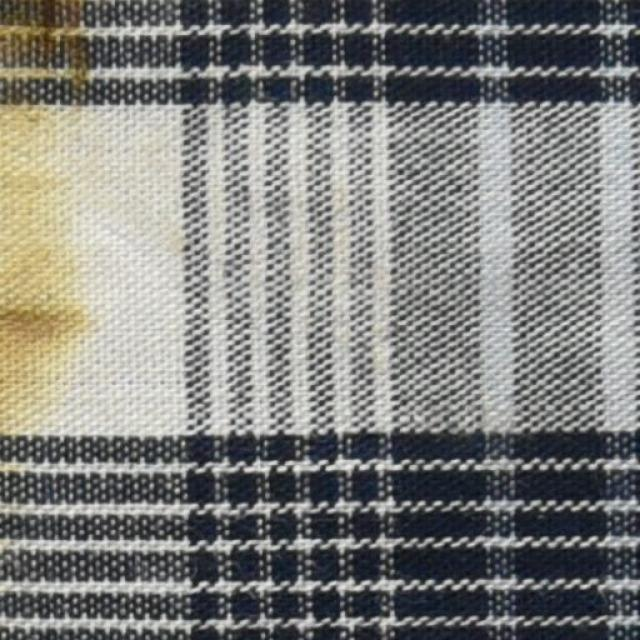Stain: (0, 0, 100, 433)
